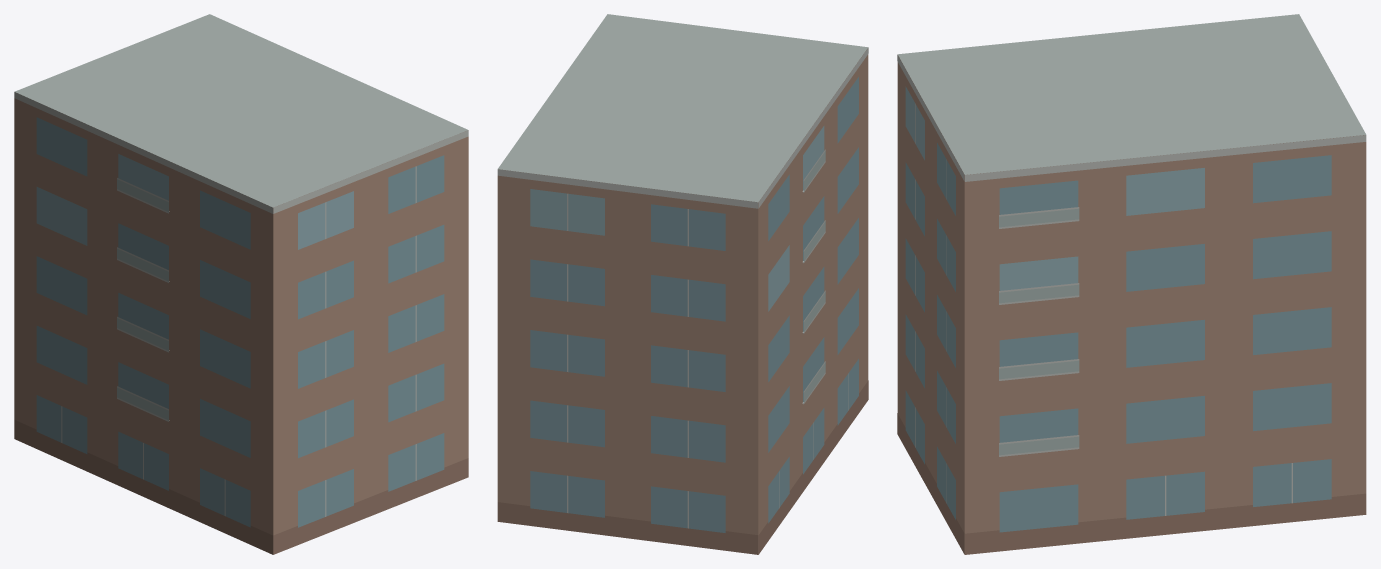
Rendered from survey-upis-32498491.glb.
The picture shows the model from 3 angles, left to right: view 1: azimuth 30°, elevation 25°; view 2: azimuth 150°, elevation 25°; view 3: azimuth 270°, elevation 25°; orthographic projection. The views are drawn at different scales.
Parts seen in each view (by area): view 1: survey-upis-32498491.tmp; view 2: survey-upis-32498491.tmp; view 3: survey-upis-32498491.tmp.
Boxes of the visible parts, x1,y1,x2,y2 form: survey-upis-32498491.tmp: (14,14,468,554); survey-upis-32498491.tmp: (497,14,868,554); survey-upis-32498491.tmp: (897,14,1366,554).
Size of the model in its own units: 12 by 13.2 by 14.78.
